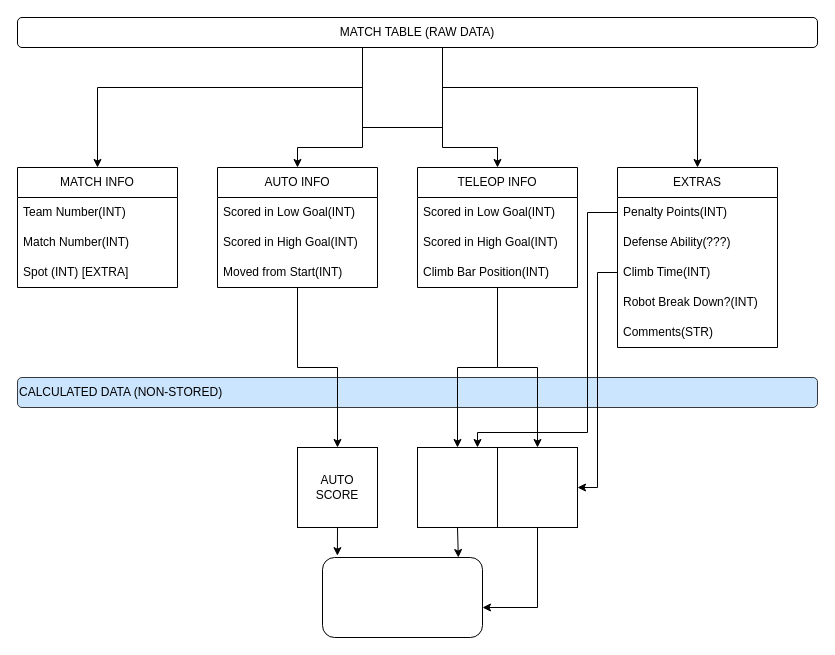
This 835x655 diagram has some shape labels left out. Each missing label, with the centre of its shape:
CLIMB SCORE: the point at 537,487
MATCH SCORE: the point at 402,597
PRIMARY KEY: the point at 402,87
TELEOP SCORE: the point at 457,487
